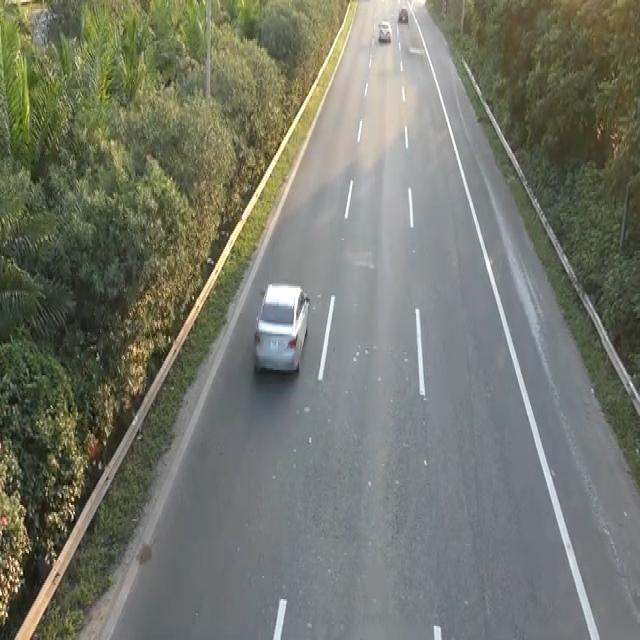bus: (251, 277, 311, 377)
